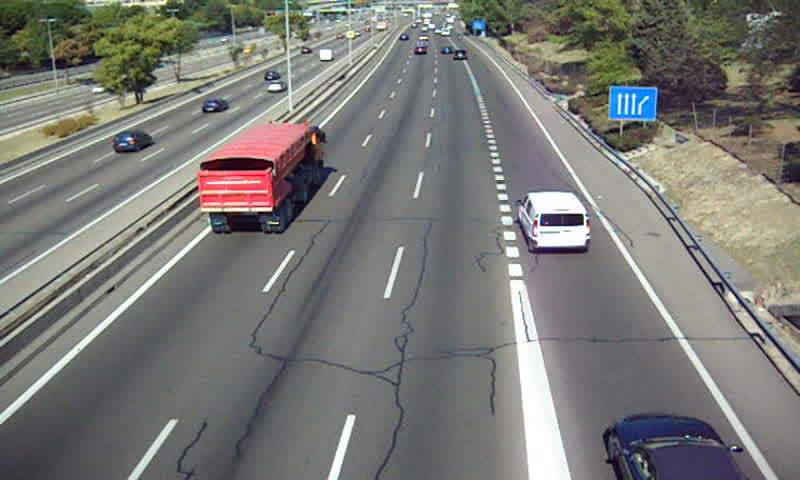truck: (199, 123, 325, 235)
van: (516, 192, 591, 251)
